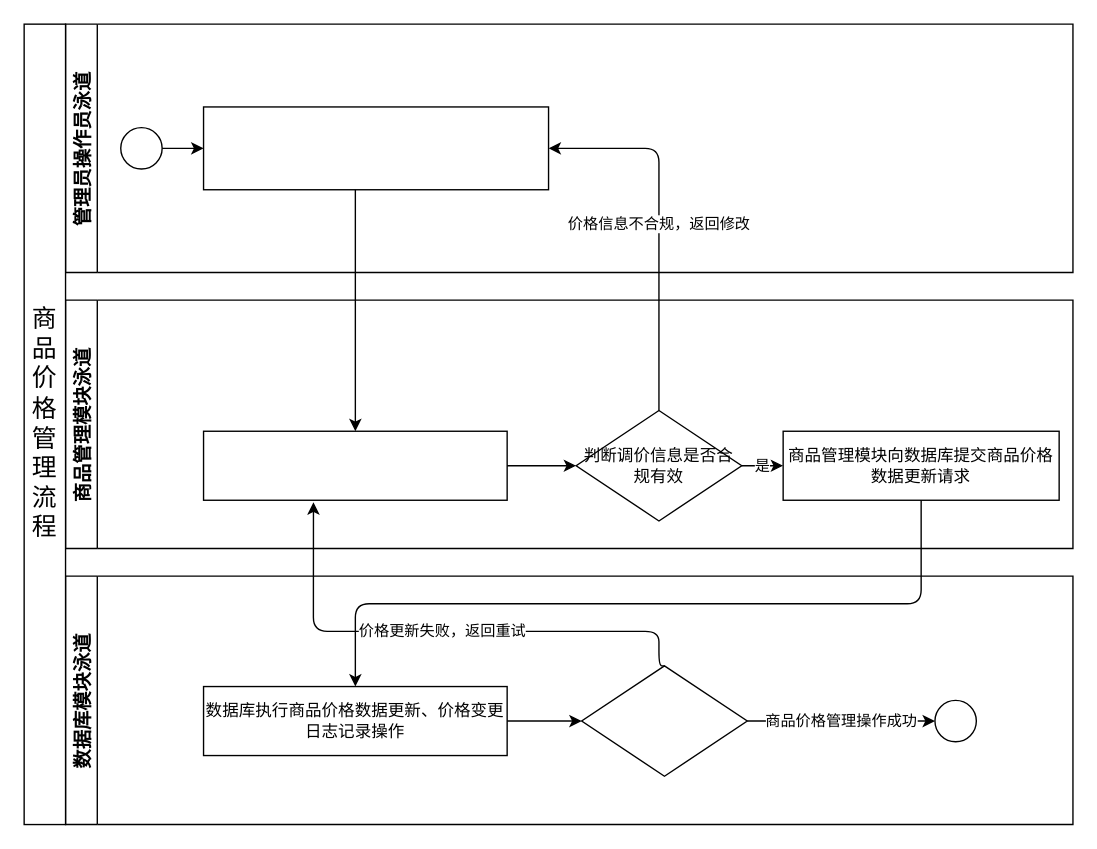
Image size: 1097x849. Some labels were removed from this diagram. The shapes that lost their labels are listed below. From the top down, each one's centre as x and y in pixels, then its label:
At pixel 375 148: "管理员选择价格操作类型（商品售价修改/进价修改/会员价设置），填写对应商品价格信息（商品编号、原价格、新价格、价格生效时间、调价原因）".
At pixel 354 465: "商品管理模块校验价格信息合法性、调价范围合理性、商品在售状态有效性".
At pixel 663 720: "判断价格数据是否更新成功".
